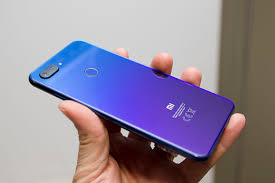mi: (28, 37, 234, 169)
